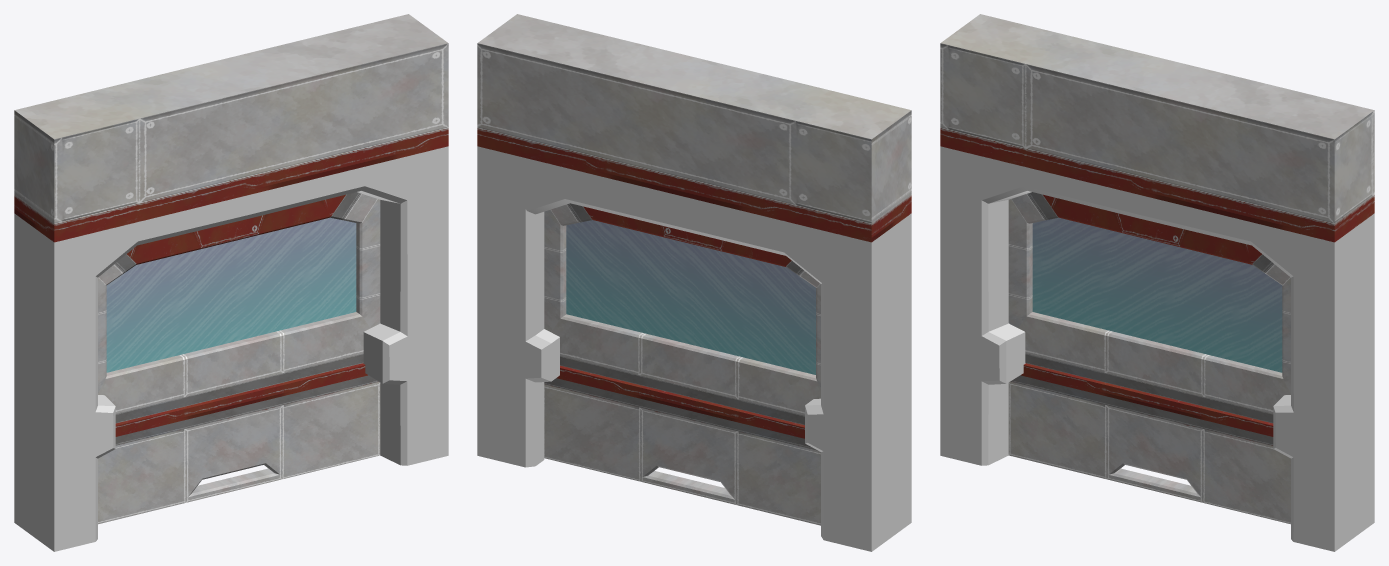
The model's file is SM_Door_A.fbx.
3 views of the same model, side by side, from view 1: azimuth 30°, elevation 25°; view 2: azimuth 150°, elevation 25°; view 3: azimuth 330°, elevation 25° (orthographic).
Parts seen in each view (by area): view 1: SM_Door_A, SM_Door_Wall_A, SM_Door_Frame_A; view 2: SM_Door_A, SM_Door_Frame_A, SM_Door_Wall_A; view 3: SM_Door_A, SM_Door_Wall_A, SM_Door_Frame_A.
Part boxes in pixels (<box>): SM_Door_A: <box>98,192,380,524</box>; SM_Door_Wall_A: <box>14,14,448,242</box>; SM_Door_Frame_A: <box>14,146,448,551</box>; SM_Door_A: <box>544,203,820,525</box>; SM_Door_Frame_A: <box>477,146,911,551</box>; SM_Door_Wall_A: <box>477,14,911,242</box>; SM_Door_A: <box>1008,192,1290,524</box>; SM_Door_Wall_A: <box>940,14,1374,242</box>; SM_Door_Frame_A: <box>940,146,1374,551</box>.
Bounding box in the file's own units: 400 × 400 × 70.
Materials: 3 (2 with a texture image).
